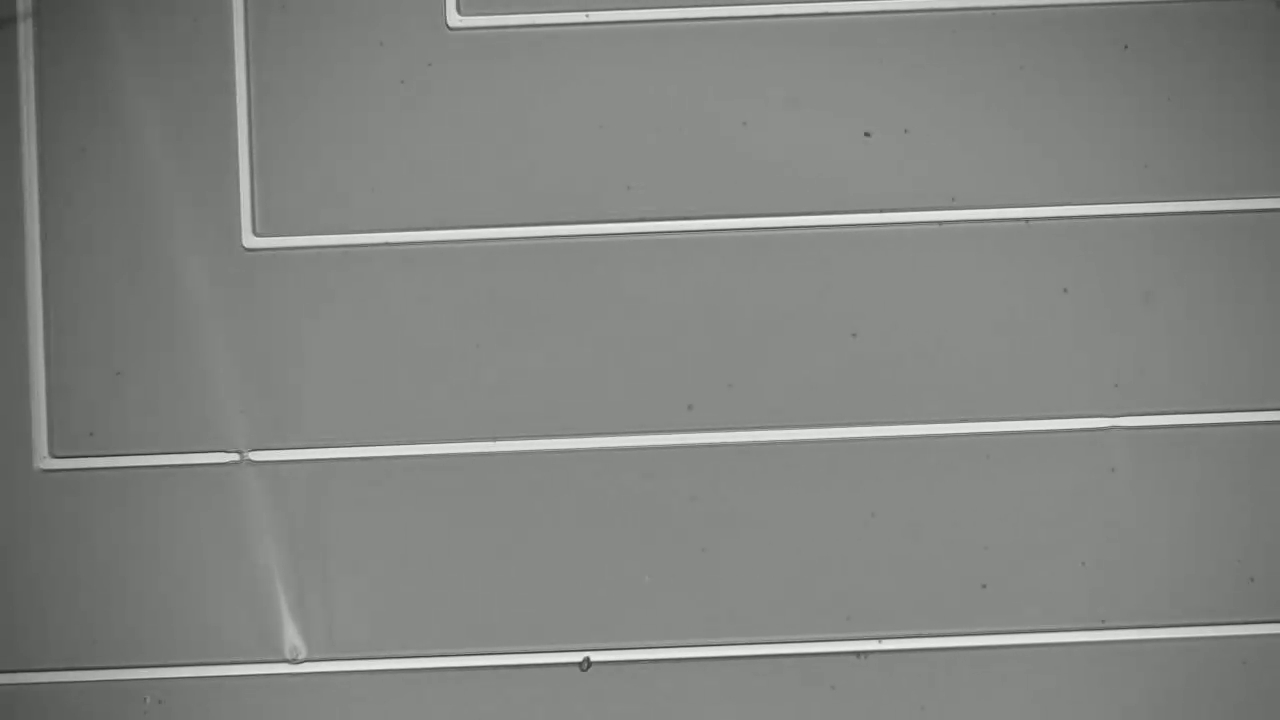open: (219, 435, 259, 469)
stains_enbedded: (569, 635, 605, 679)
